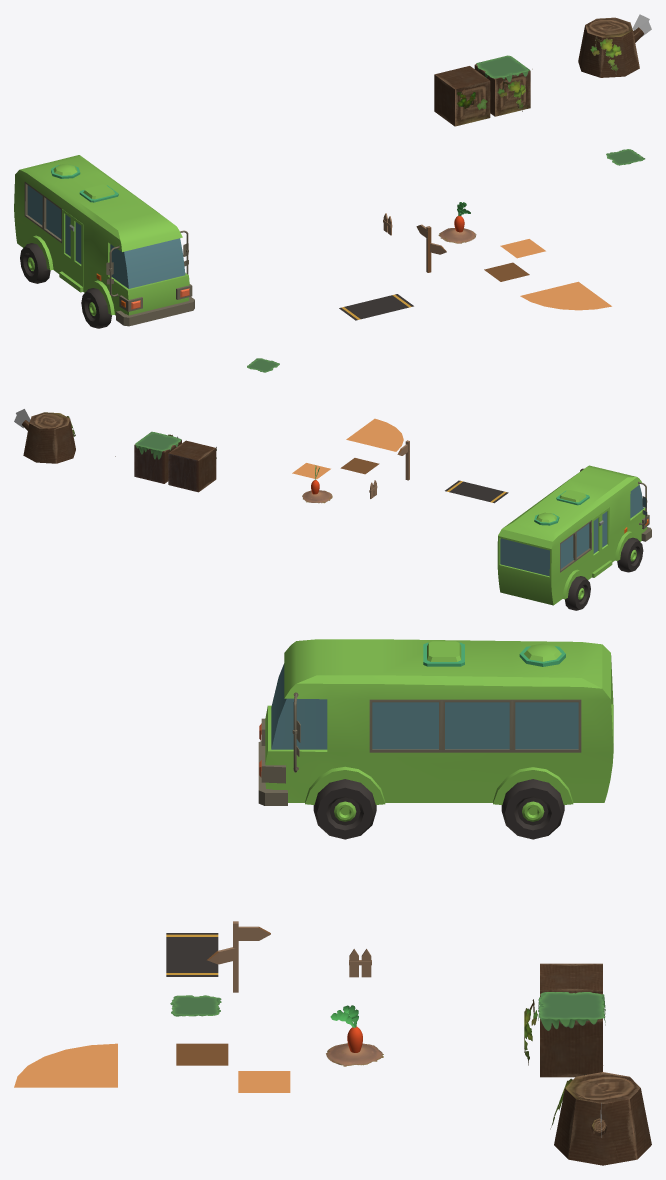
File: 1104_Farm.fbx
3 renders of one model, top to bottom at view 1: azimuth 30°, elevation 25°; view 2: azimuth 150°, elevation 25°; view 3: azimuth 270°, elevation 25°, orthographic. The views are drawn at different scales.
Parts seen in each view (by area): view 1: Plane, Cube_Tree_stem.003, Cube_Tree_stem.010, Sand.008, Cube_Tree_stem.002, Road, Cube_Tree_stem.005, Soil.001, Sand, Cube, Plane.001; view 2: Plane, Cube_Tree_stem.003, Cube_Tree_stem.010, Sand.008, Cube_Tree_stem.002, Road, Cube_Tree_stem.005, Soil.001, Sand; view 3: Plane, Cube_Tree_stem.003, Sand.008, Cube_Tree_stem.002, Road, Cube_Tree_stem.005, Cube_Tree_stem.010, Soil.001, Sand, Cube, Grass_alpha, Farm_Field.
Boxes of the visible parts, x1,y1,x2,y2 form: Plane: (14,155,194,328); Cube_Tree_stem.003: (578,17,639,77); Cube_Tree_stem.010: (434,66,490,126); Sand.008: (520,281,611,310); Cube_Tree_stem.002: (474,64,530,116); Road: (339,294,413,320); Cube_Tree_stem.005: (476,55,530,82); Soil.001: (484,262,529,281); Sand: (500,239,545,258); Cube: (416,224,446,272); Plane.001: (590,36,621,74); Plane: (497,465,651,610); Cube_Tree_stem.003: (23,412,75,463); Cube_Tree_stem.010: (168,440,216,492); Sand.008: (346,418,403,451); Cube_Tree_stem.002: (134,439,181,483); Road: (445,480,508,503); Cube_Tree_stem.005: (135,431,181,459); Soil.001: (340,458,379,474); Sand: (292,463,330,479); Plane: (258,639,613,839); Cube_Tree_stem.003: (554,1072,651,1165); Sand.008: (14,1043,117,1087); Cube_Tree_stem.002: (540,993,602,1077); Road: (166,933,218,976); Cube_Tree_stem.005: (538,992,605,1030); Cube_Tree_stem.010: (540,963,602,993); Soil.001: (176,1043,228,1065); Sand: (238,1071,290,1092); Cube: (207,921,270,992); Grass_alpha: (170,995,221,1016); Farm_Field: (326,1043,383,1066).
Bounding box in the file's own units: 21.94 × 3.48 × 12.27.
